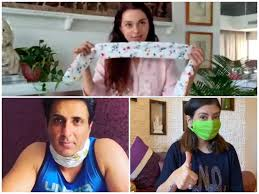mask_weared_incorrect: (49, 109, 89, 163), (124, 18, 149, 47)
with_mask: (195, 109, 222, 135)
